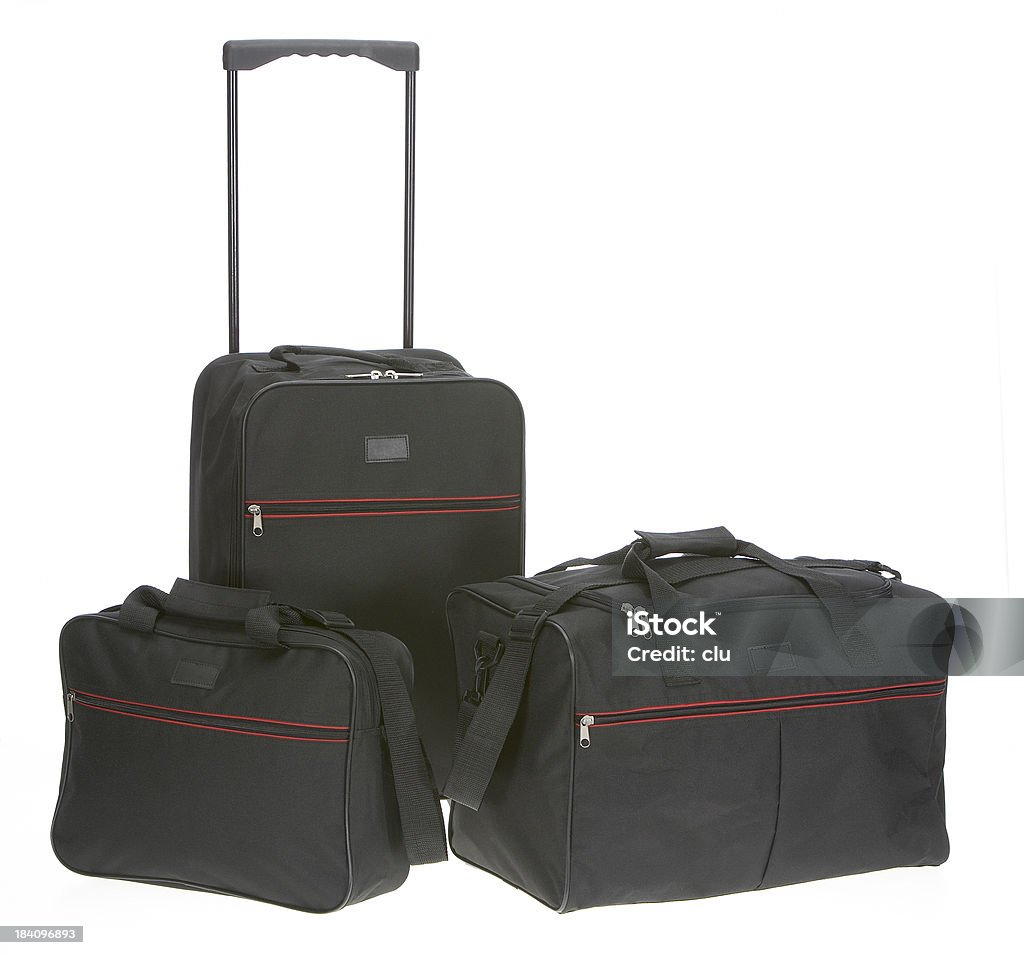Bag: (184, 20, 535, 745), (418, 526, 958, 917), (48, 572, 447, 917)
Handle: (208, 28, 431, 351)
Straps: (444, 528, 898, 810), (120, 578, 446, 864)
